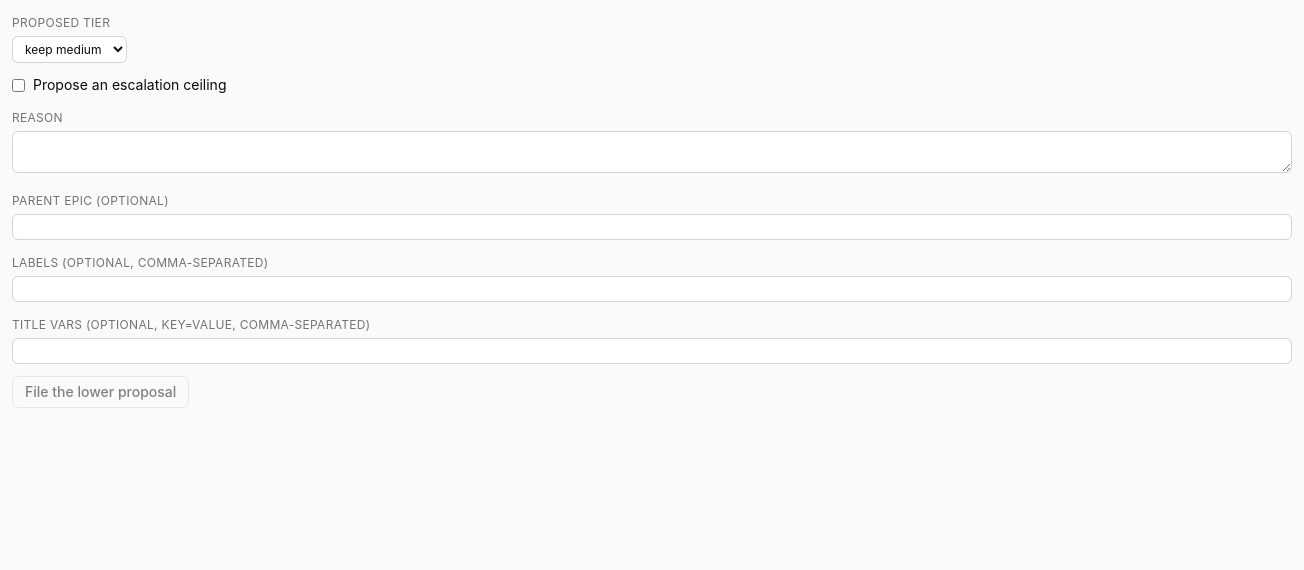
Test: <DelegationLowerForm> escalation ceiling › an incomplete escalation (no path) keeps submit disabled even with a tier chosen
This screenshot has width=1304, height=570.
Type "the loop keeps shipping unreviewed migrations" into the text box labelled "Reason".
click(652, 152); type("the loop keeps shipping unreviewed migrations")  # box [12,131,1292,173]
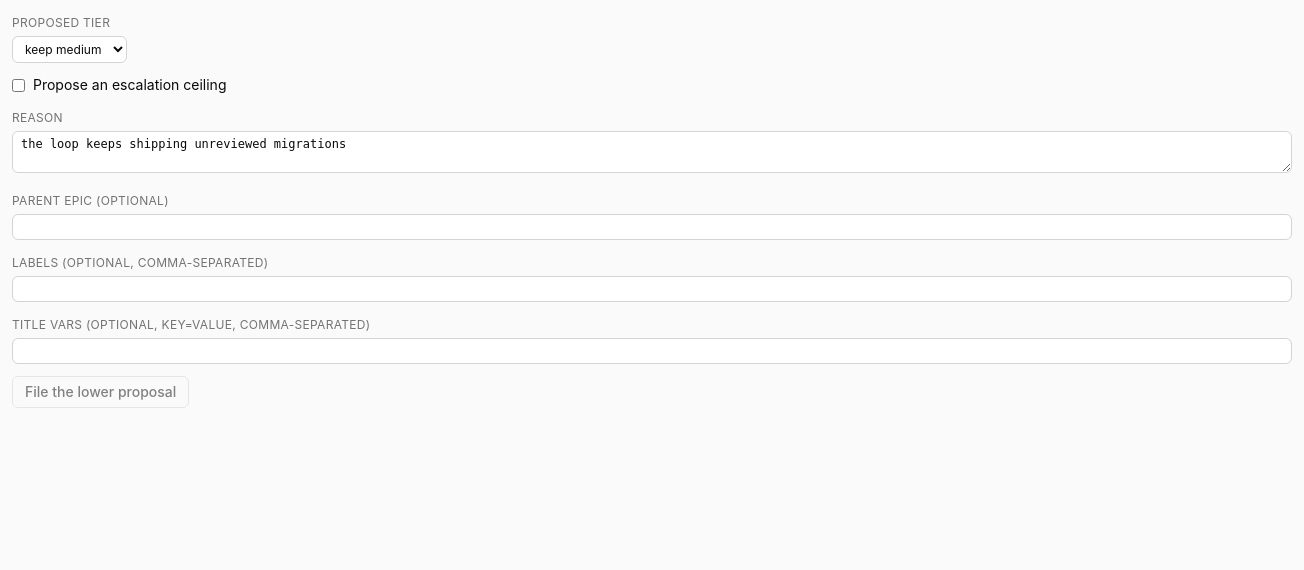
Select "low" in the dropdown labelled "Proposed tier" at x=70, y=50, box [12,36,127,63]
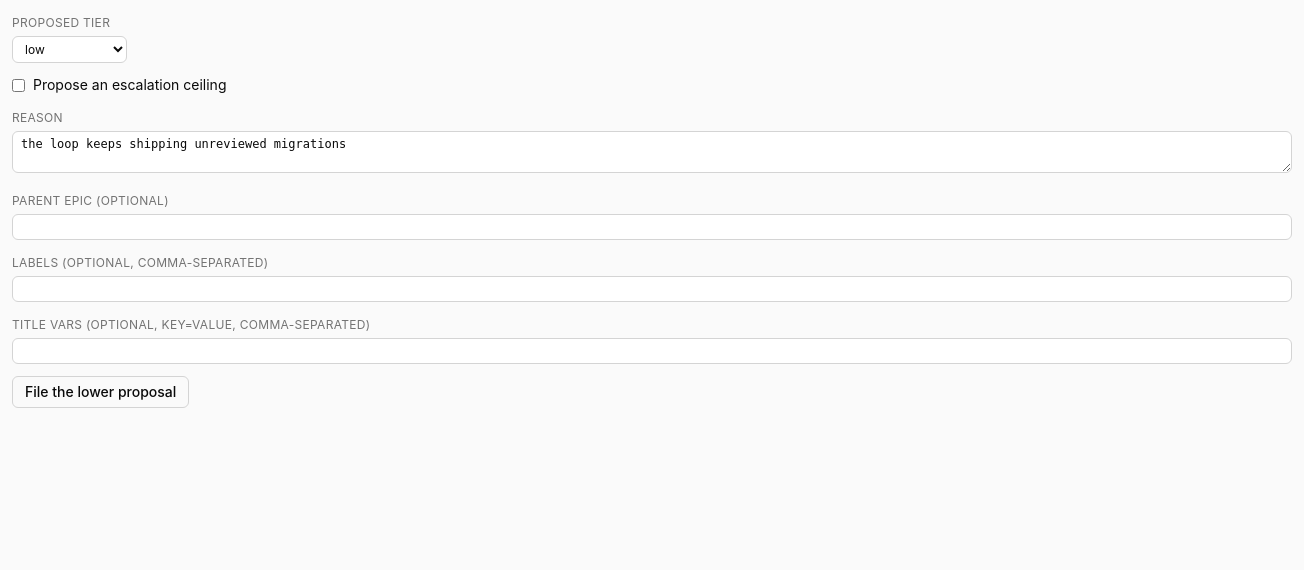
Result: the button "File the lower proposal" is enabled at [12,376,189,408]
Click the checkbox labelled "Propose an escalation ceiling".
click(18, 85)  # box [12,78,25,92]
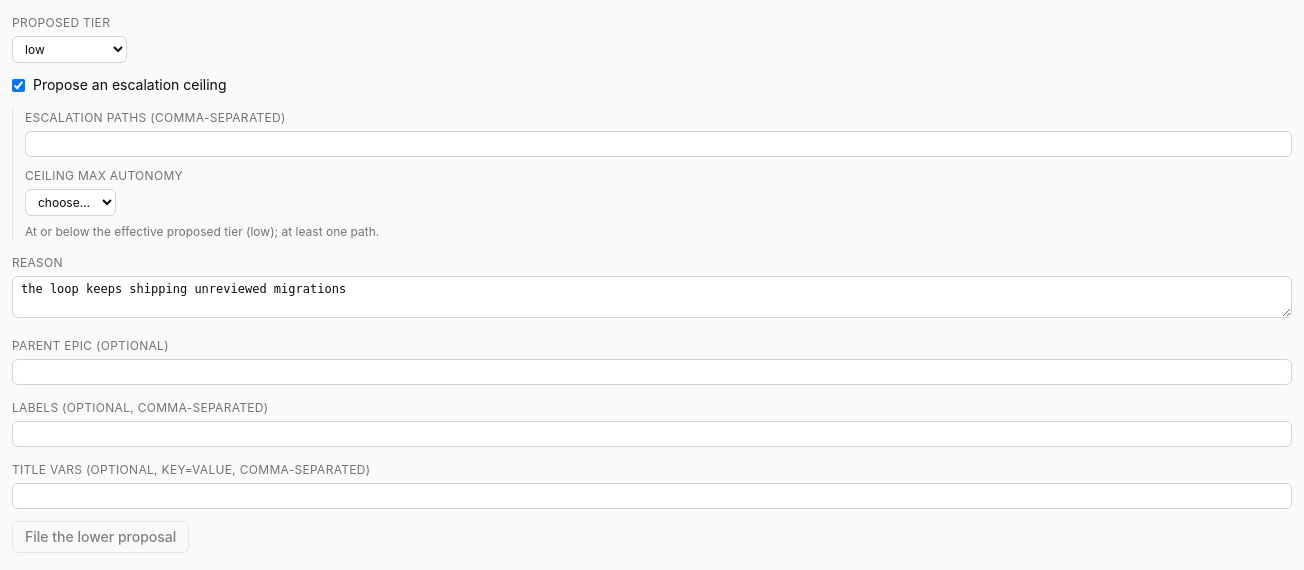
Result: the button "File the lower proposal" is disabled at [12,521,189,553]
